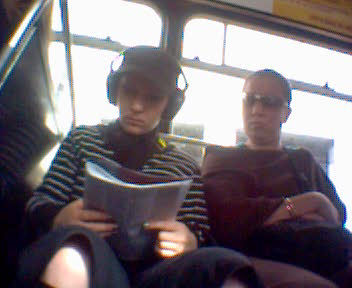person: (12, 46, 262, 288)
